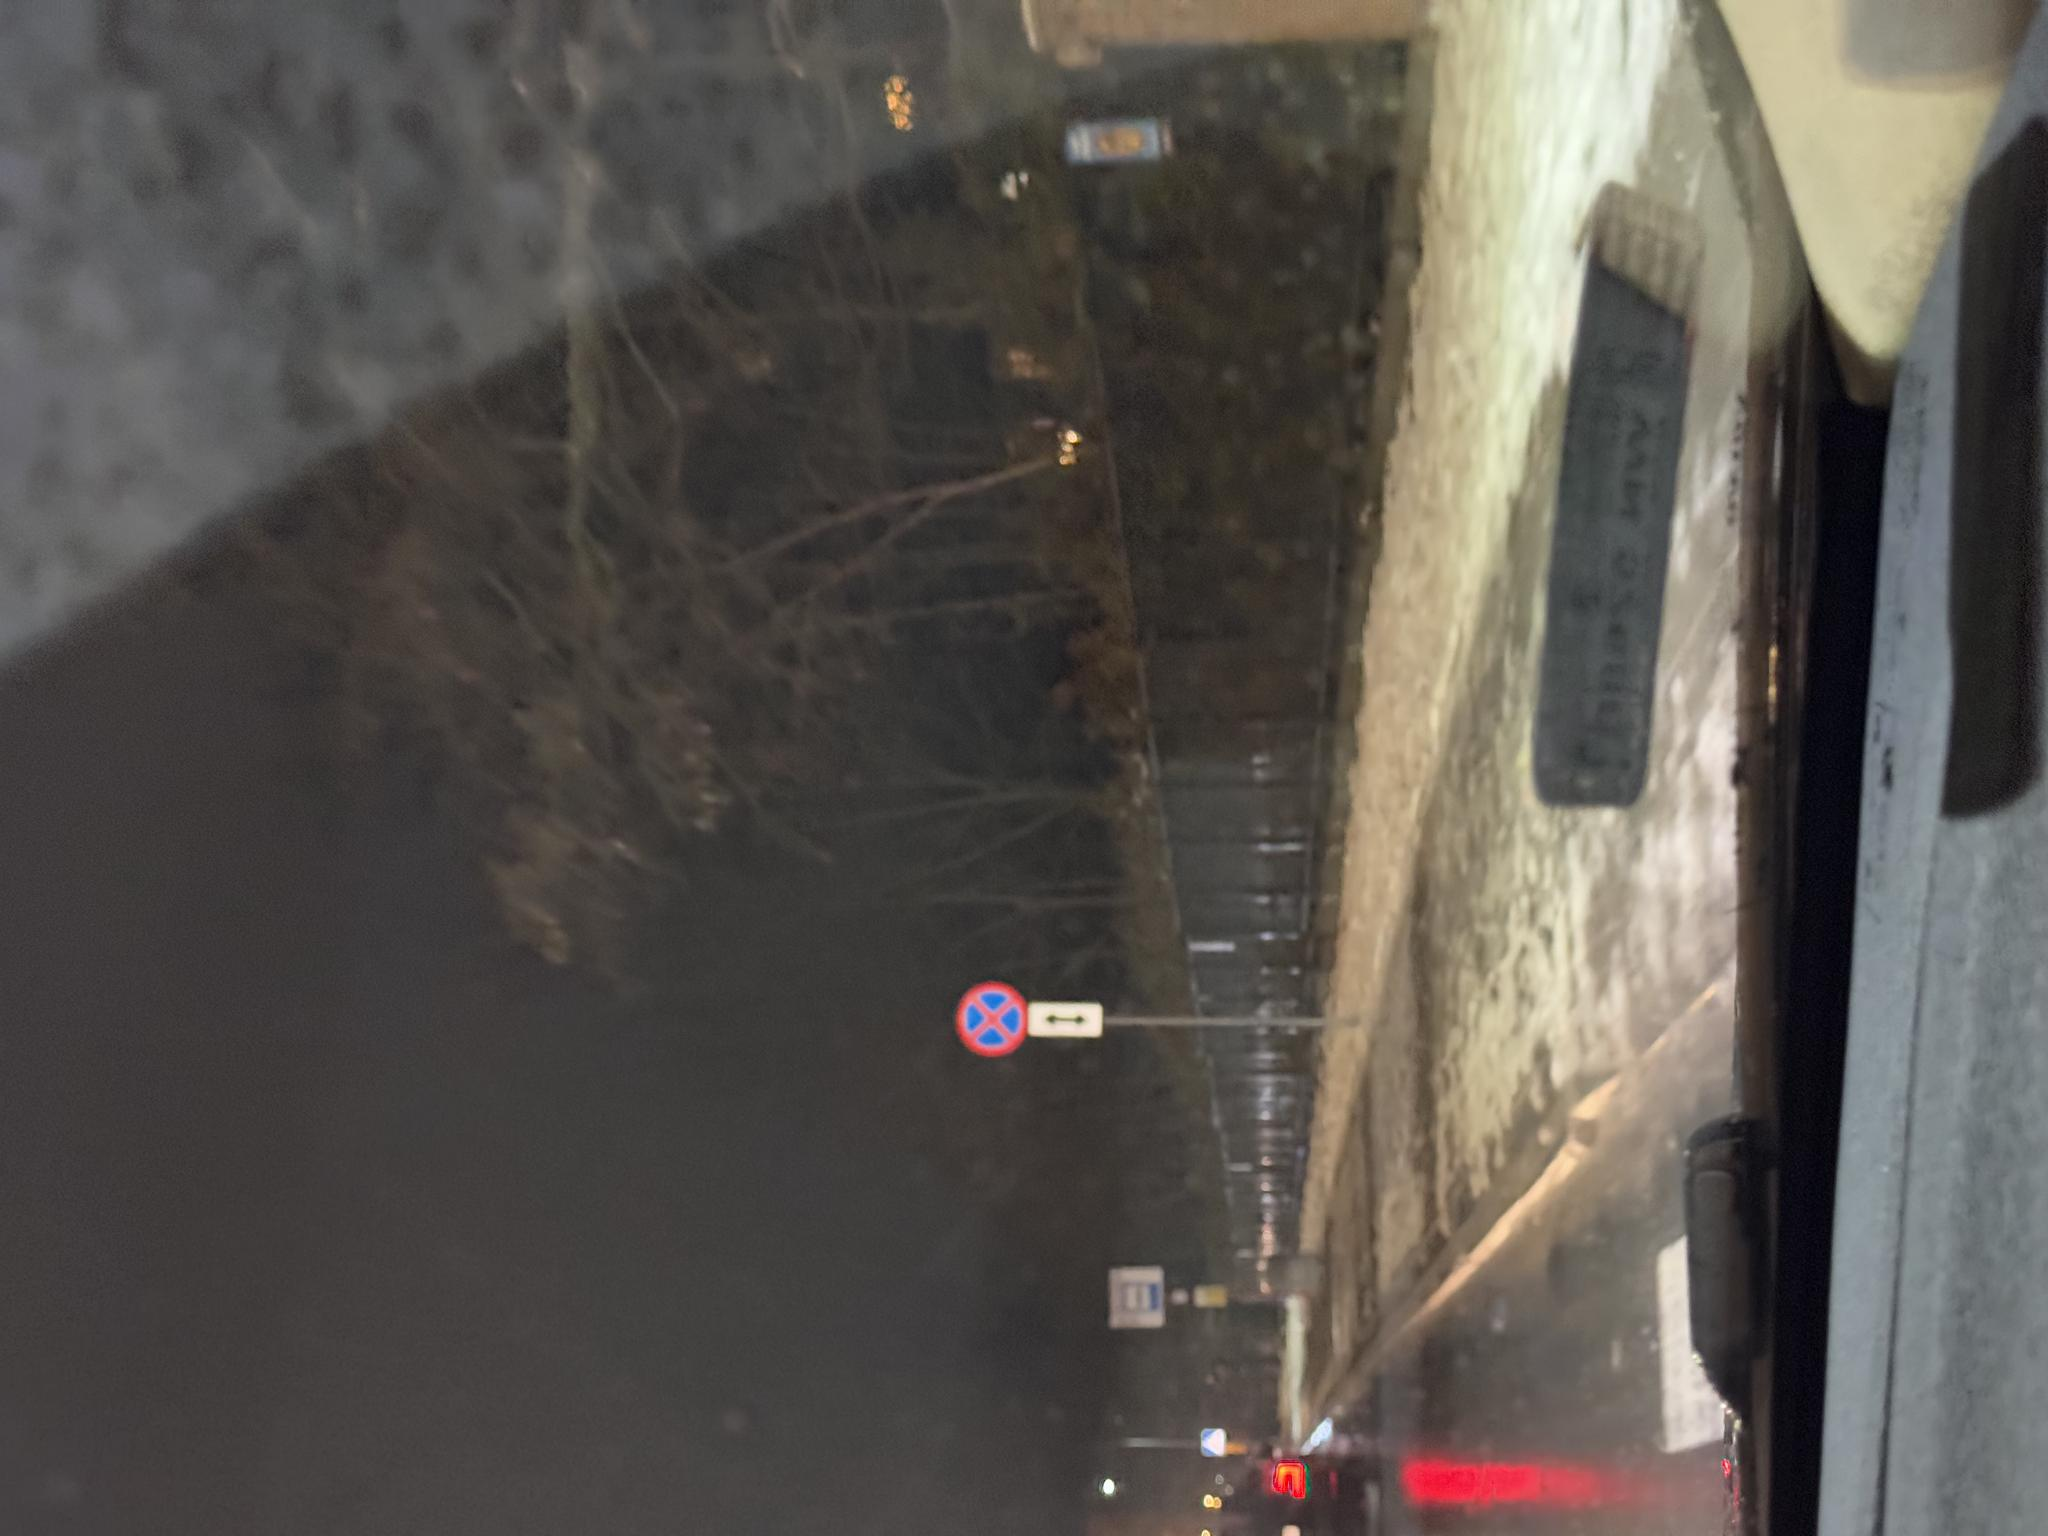information: (224, 1120, 252, 1158), (79, 1200, 106, 1226)
other: (498, 1028, 535, 1105)
prohibitory: (479, 955, 555, 1031)
